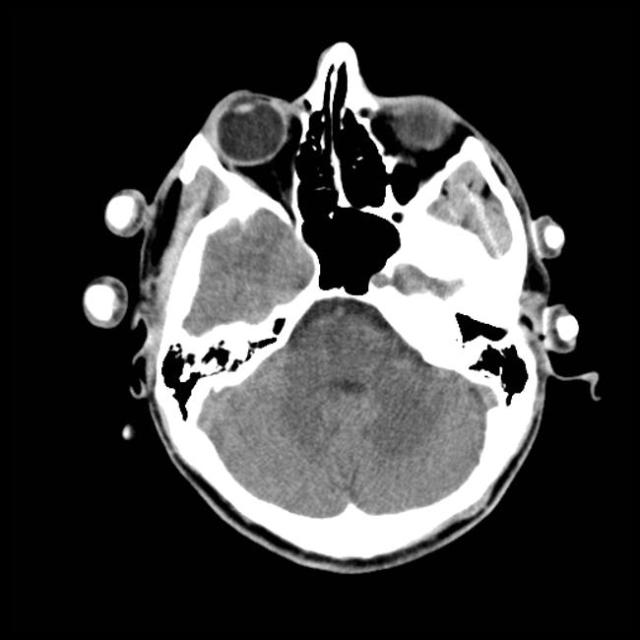lesion: (90, 39, 600, 574)
